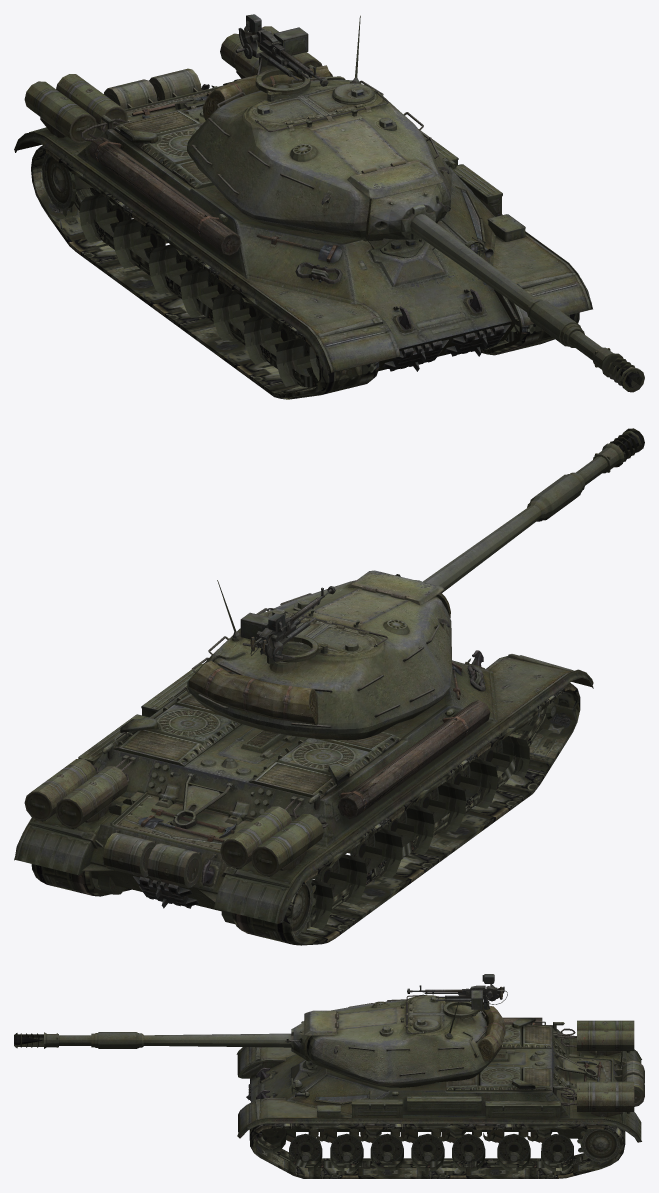
The model's file is tank.glb.
3 renders of one model, top to bottom at view 1: azimuth 30°, elevation 25°; view 2: azimuth 150°, elevation 25°; view 3: azimuth 270°, elevation 25°, orthographic. The views are drawn at different scales.
Parts seen in each view (by area): view 1: Hull, Turret, Wheels_Right, Track_Right, 3D_Style, Gun, Track_Left; view 2: Hull, Turret, Track_Right, 3D_Style, Wheels_Right, Gun, Track_Left; view 3: Hull, Turret, Wheels_Left, Track_Left, 3D_Style, Gun.
Part boxes in pixels (x1=…): Hull: x1=14, y1=64, x2=592, y2=374; Turret: x1=187, y1=65, x2=451, y2=238; Wheels_Right: x1=42, y1=153, x2=319, y2=386; Track_Right: x1=31, y1=145, x2=379, y2=399; 3D_Style: x1=24, y1=14, x2=360, y2=143; Gun: x1=363, y1=184, x2=644, y2=392; Track_Left: x1=480, y1=312, x2=579, y2=355; Hull: x1=14, y1=650, x2=593, y2=924; Turret: x1=187, y1=570, x2=452, y2=739; Track_Right: x1=232, y1=683, x2=580, y2=945; 3D_Style: x1=24, y1=580, x2=335, y2=876; Wheels_Right: x1=240, y1=702, x2=556, y2=937; Gun: x1=395, y1=428, x2=644, y2=617; Track_Left: x1=31, y1=864, x2=131, y2=896; Hull: x1=236, y1=1017, x2=644, y2=1142; Turret: x1=304, y1=994, x2=505, y2=1087; Wheels_Left: x1=262, y1=1128, x2=620, y2=1171; Track_Left: x1=249, y1=1123, x2=625, y2=1178; 3D_Style: x1=407, y1=974, x2=634, y2=1117; Gun: x1=14, y1=1021, x2=311, y2=1061.
Bounding box in the file's own units: 3.31 × 2.96 × 10.48.
1 material, 1 textured.
